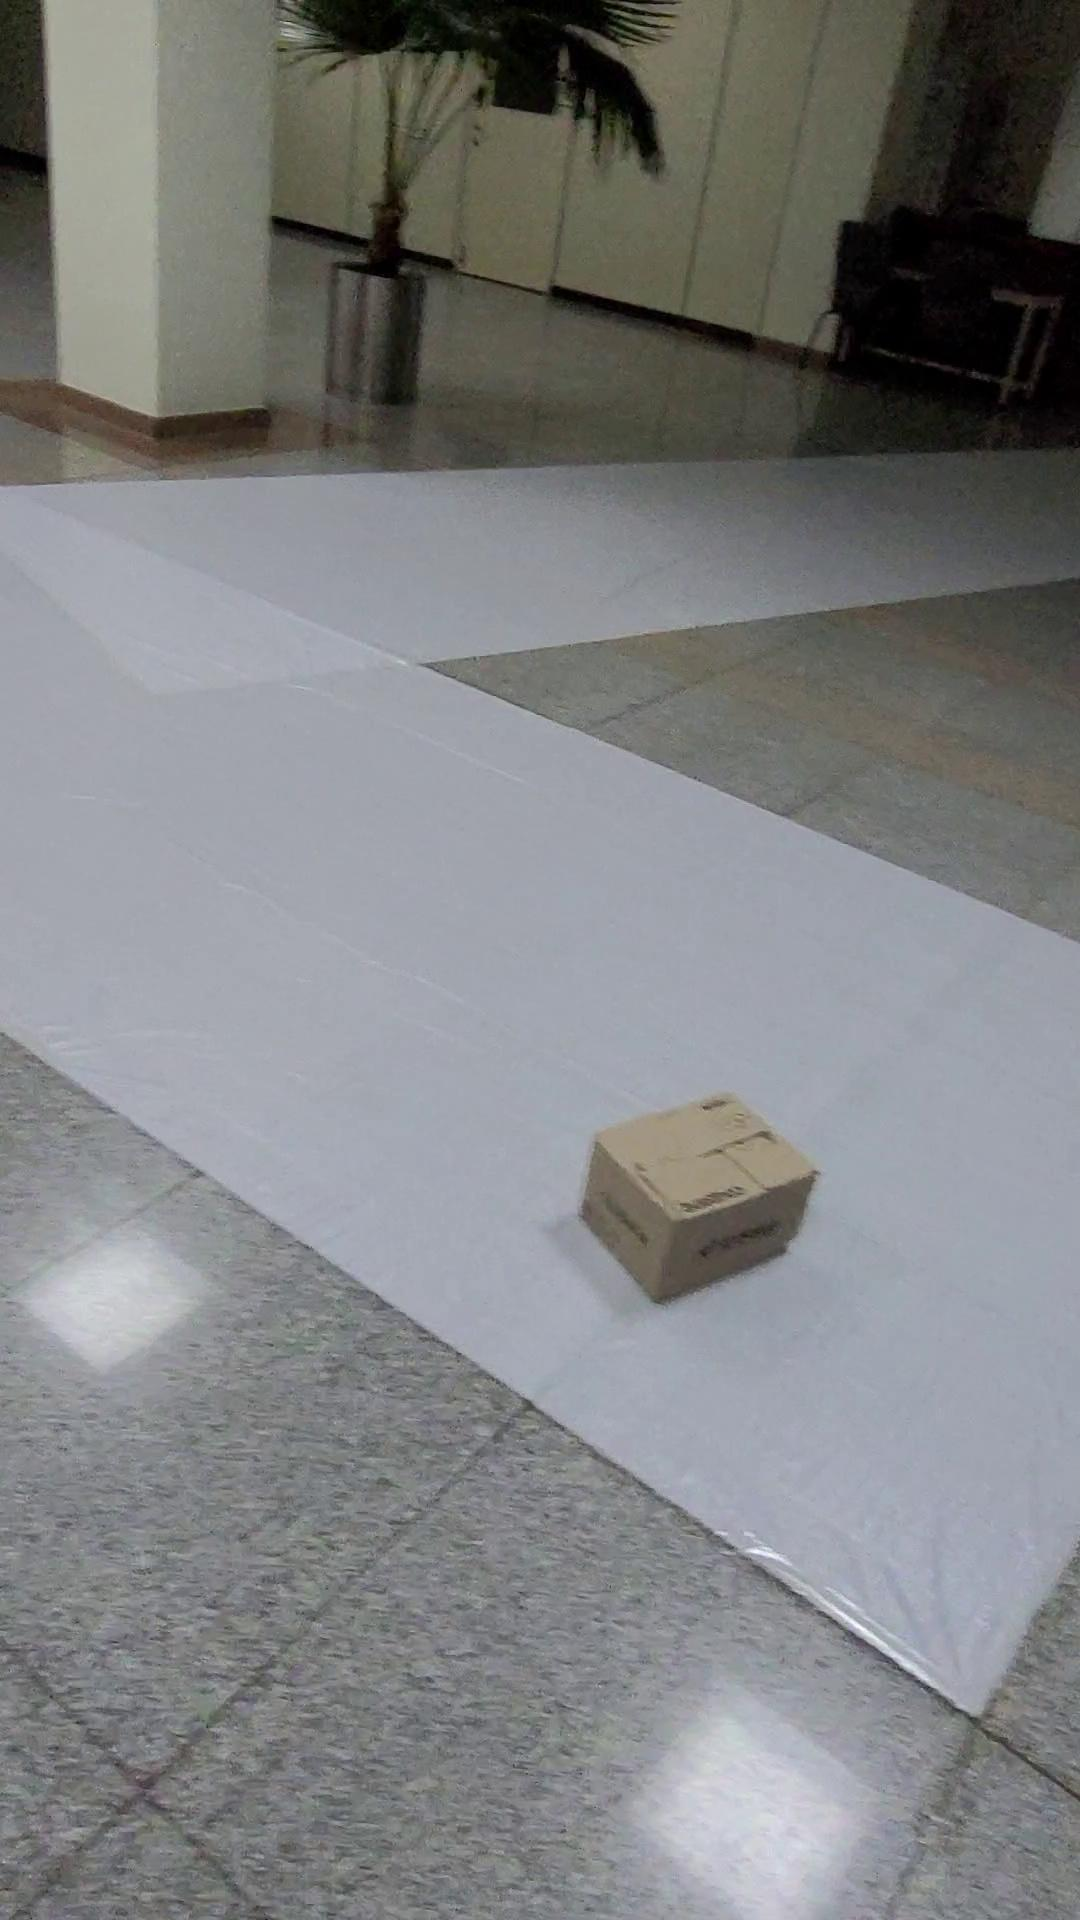Box: (566, 1073, 843, 1323)
